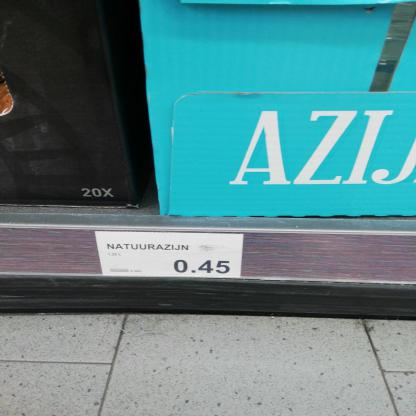prtg: (96, 232, 245, 279)
